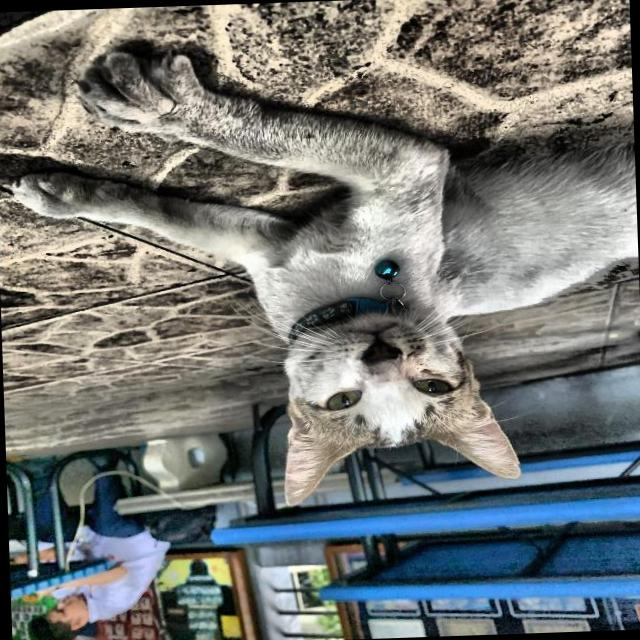Healthy skin: (406, 210, 537, 300)
